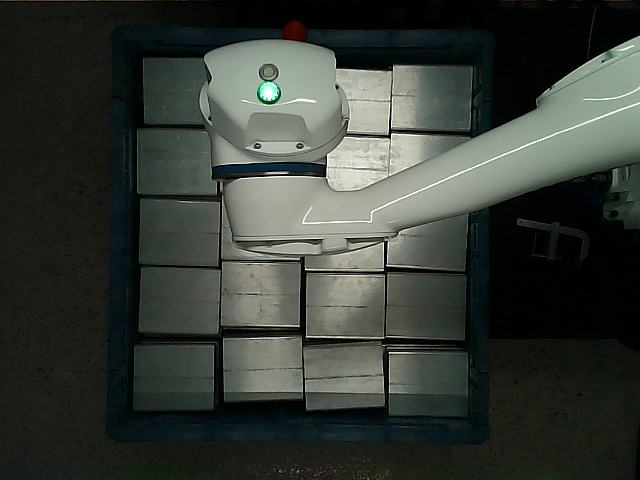green_light: (257, 81, 280, 104)
